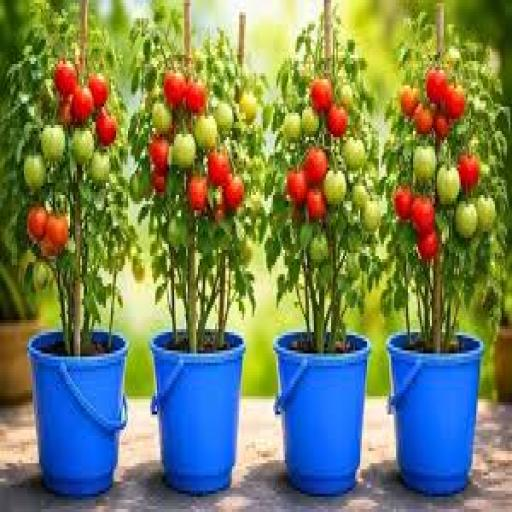tomato: (304, 147, 327, 185), (412, 196, 435, 234), (323, 171, 346, 207), (437, 168, 460, 204), (41, 125, 64, 161), (173, 135, 196, 170), (72, 86, 93, 124), (456, 202, 477, 240), (414, 147, 436, 182), (425, 68, 447, 103), (164, 71, 186, 106), (24, 156, 46, 191), (195, 116, 218, 149), (55, 61, 76, 97), (96, 110, 117, 146), (72, 128, 93, 164), (185, 83, 208, 115), (458, 156, 479, 191), (209, 150, 230, 185), (47, 217, 68, 252), (88, 74, 109, 109), (188, 177, 208, 213), (344, 138, 366, 170), (417, 229, 438, 262), (311, 80, 332, 112), (477, 196, 496, 231), (149, 138, 168, 173), (287, 171, 307, 204), (152, 101, 172, 134), (328, 104, 348, 137), (224, 177, 244, 210), (395, 186, 413, 222), (214, 101, 233, 134), (89, 153, 110, 182), (400, 86, 419, 118), (28, 208, 47, 240), (446, 86, 465, 118), (309, 235, 329, 265), (130, 171, 148, 204), (362, 202, 382, 231), (239, 92, 257, 124), (306, 189, 325, 219), (414, 104, 433, 134), (33, 263, 51, 292), (168, 217, 186, 246), (301, 107, 319, 134), (282, 113, 300, 140), (40, 235, 59, 259), (434, 113, 450, 140), (352, 183, 368, 210), (59, 98, 73, 127), (212, 192, 225, 222), (446, 46, 460, 70), (151, 171, 165, 195), (340, 86, 353, 109), (132, 260, 145, 283), (241, 238, 252, 265)
